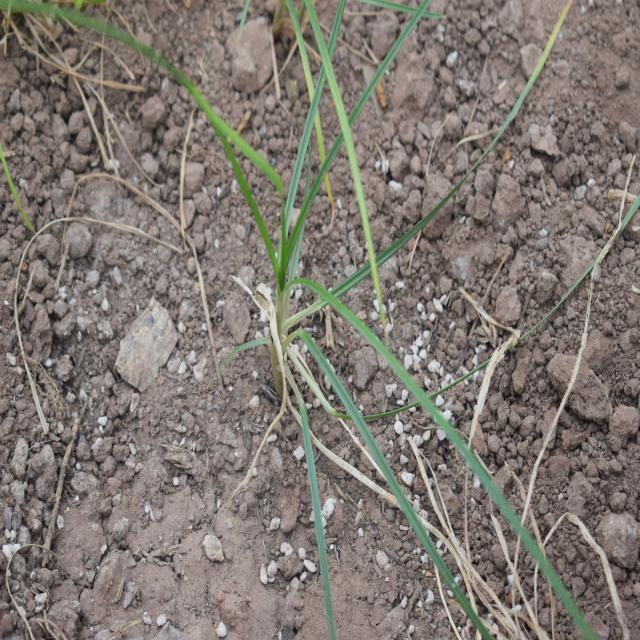sedge: (208, 16, 538, 558)
